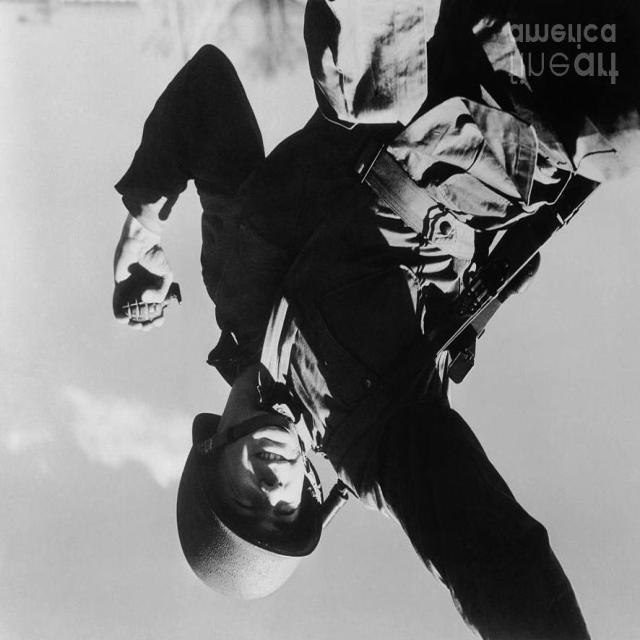grenade: (112, 264, 183, 333)
